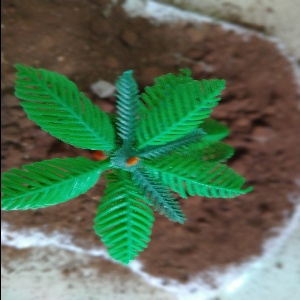plant: (7, 37, 224, 247)
